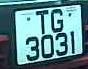0: (39, 33, 56, 60)
1: (67, 30, 78, 56)
3: (24, 34, 41, 62), (53, 32, 70, 57)
G: (51, 9, 66, 33)
T: (34, 8, 51, 36)
